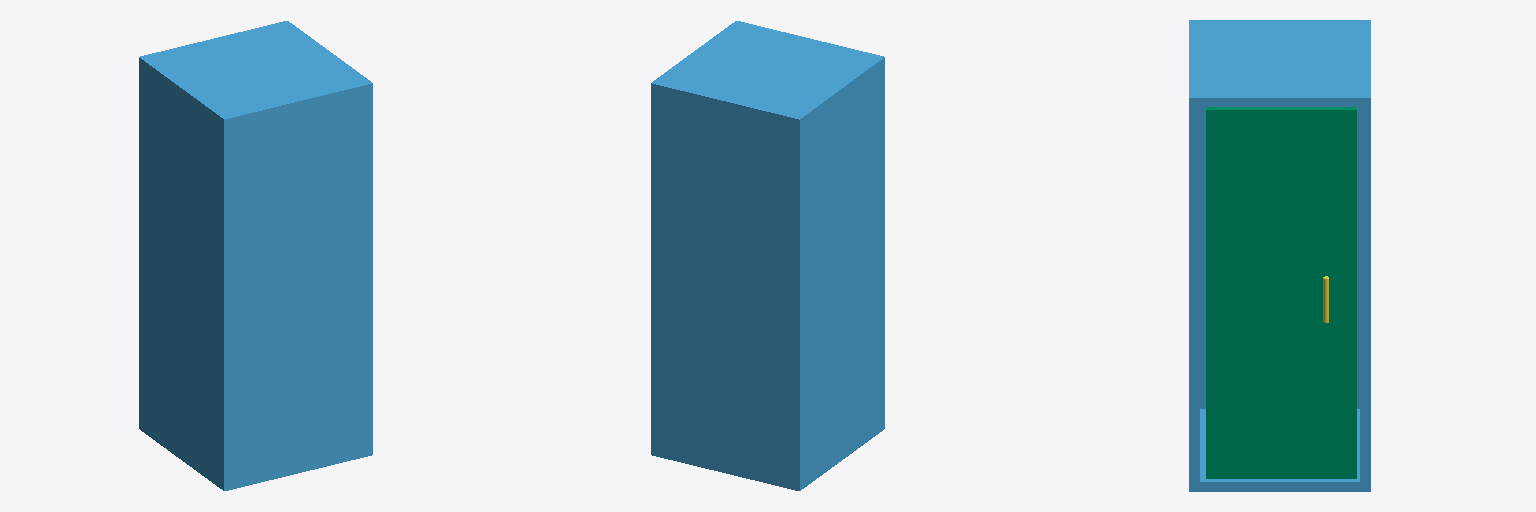
URDF robot description (my_cabinet):
<?xml version="1.0" ?>
<robot name="my_cabinet">
	<link name="world"/>
	<joint name="virtual_joint" type="fixed">
		<parent link="world"/>
		<child link="base_cabinet_link"/>
		<origin xyz="0.0 0.0 0.0" rpy="0.0 0.0 0.0"/>
	</joint>
	<link name="base_cabinet_link">
		<visual>
			<origin xyz="0.0 -0.0025 -0.3486223420729859" rpy="0.0 0.0 0.0"/>
			<geometry>
				<box size="0.3 0.2987899586336481 0.018"/>
			</geometry>
		</visual>
		<collision name="base_cabinet_link_collision_0">
			<origin xyz="0.0 -0.0025 -0.3486223420729859" rpy="0.0 0.0 0.0"/>
			<geometry>
				<box size="0.3 0.2987899586336481 0.018"/>
			</geometry>
		</collision>
		<visual>
			<origin xyz="0.0 0.13789497931682407 0.0" rpy="0.0 0.0 0.0"/>
			<geometry>
				<box size="0.3 0.018 0.7152446841459719"/>
			</geometry>
		</visual>
		<collision name="base_cabinet_link_collision_1">
			<origin xyz="0.0 0.13789497931682407 0.0" rpy="0.0 0.0 0.0"/>
			<geometry>
				<box size="0.3 0.018 0.7152446841459719"/>
			</geometry>
		</collision>
		<visual>
			<origin xyz="0.0 -0.14289497931682407 0.0" rpy="0.0 0.0 0.0"/>
			<geometry>
				<box size="0.3 0.018 0.7152446841459719"/>
			</geometry>
		</visual>
		<collision name="base_cabinet_link_collision_2">
			<origin xyz="0.0 -0.14289497931682407 0.0" rpy="0.0 0.0 0.0"/>
			<geometry>
				<box size="0.3 0.018 0.7152446841459719"/>
			</geometry>
		</collision>
		<visual>
			<origin xyz="0.0 -0.0025 0.3486223420729859" rpy="0.0 0.0 0.0"/>
			<geometry>
				<box size="0.3 0.2987899586336481 0.018"/>
			</geometry>
		</visual>
		<collision name="base_cabinet_link_collision_3">
			<origin xyz="0.0 -0.0025 0.3486223420729859" rpy="0.0 0.0 0.0"/>
			<geometry>
				<box size="0.3 0.2987899586336481 0.018"/>
			</geometry>
		</collision>
		<visual>
			<origin xyz="-0.141 -0.0025 0.0" rpy="0.0 0.0 0.0"/>
			<geometry>
				<box size="0.018 0.2987899586336481 0.7152446841459719"/>
			</geometry>
		</visual>
		<collision name="base_cabinet_link_collision_4">
			<origin xyz="-0.141 -0.0025 0.0" rpy="0.0 0.0 0.0"/>
			<geometry>
				<box size="0.018 0.2987899586336481 0.7152446841459719"/>
			</geometry>
		</collision>
		<inertial>
			<mass value="0.200000"/>
			<inertia ixx="0.010014" ixy="0.0" ixz="0.0" iyy="0.010026" iyz="0.0" izz="0.002988"/>
		</inertial>
	</link>
	<link name="door_link">
		<visual>
			<origin xyz="0.0 -0.12389497931682406 0.0"/>
			<geometry>
				<box size="0.018 0.2477899586336481 0.6692446841459718"/>
			</geometry>
		</visual>
		<collision name="door_link_collision">
			<origin xyz="0.0 -0.12389497931682406 0.0"/>
			<geometry>
				<box size="0.018 0.2477899586336481 0.6692446841459718"/>
			</geometry>
		</collision>
		<inertial>
			<mass value="0.200000"/>
			<inertia ixx="0.008488" ixy="0.0" ixz="0.0" iyy="0.007470" iyz="0.0" izz="0.001029"/>
		</inertial>
	</link>
	<joint name="door_joint" type="revolute">
		<origin xyz="0.141 -0.12389497931682406 0.0" rpy="0.000000 -0.000000 3.141593"/>
		<axis xyz="0 0 1"/>
		<parent link="base_cabinet_link"/>
		<child link="door_link"/>
		<limit effort="50" lower="-1.658062789394613" upper="0" velocity="10"/>
		<dynamics friction="3.5" damping="3.5"/>
	</joint>
	<link name="handle_link">
		<visual>
			<origin xyz="0.0 0.0 0.0" rpy="0.0 0.0 0.0"/>
			<geometry>
				<cylinder length="0.08" radius="0.005"/>
			</geometry>
		</visual>
		<collision name="handle_link_collision_0">
			<origin xyz="0.0 0.0 0.0" rpy="0.0 0.0 0.0"/>
			<geometry>
				<cylinder length="0.08" radius="0.005"/>
			</geometry>
		</collision>
		<visual>
			<origin xyz="-0.01 0.0 0.02" rpy="0.0 1.5707963267948966 0.0"/>
			<geometry>
				<cylinder length="0.02" radius="0.003"/>
			</geometry>
		</visual>
		<collision name="handle_link_collision_1">
			<origin xyz="-0.01 0.0 0.02" rpy="0.0 1.5707963267948966 0.0"/>
			<geometry>
				<cylinder length="0.01" radius="0.003"/>
			</geometry>
		</collision>
		<visual>
			<origin xyz="-0.01 0.0 -0.02" rpy="0.0 1.5707963267948966 0.0"/>
			<geometry>
				<cylinder length="0.02" radius="0.003"/>
			</geometry>
		</visual>
		<collision name="handle_link_collision_2">
			<origin xyz="-0.01 0.0 -0.02" rpy="0.0 1.5707963267948966 0.0"/>
			<geometry>
				<cylinder length="0.02" radius="0.003"/>
			</geometry>
		</collision>
		<inertial>
			<mass value="0.050000"/>
			<inertia ixx="0.000027" ixy="0.0" ixz="0.0" iyy="0.000029" iyz="0.0" izz="0.000003"/>
		</inertial>
	</link>
	<joint name="handle_joint" type="fixed">
		<origin xyz="-0.028999999999999998 -0.19778995863364812 0.0" rpy="0.000000 -0.000000 3.141593"/>
		<parent link="door_link"/>
		<child link="handle_link"/>
	</joint>
	<gazebo reference="base_cabinet_link">
		<sensor name="main_sensor" type="contact">
			<selfCollide>true</selfCollide>
			<alwaysOn>true</alwaysOn>
			<updateRate>5.0</updateRate>
			<material>Gazebo/Red</material>
			<contact>
				<collision>base_cabinet_link_collision_0_collision</collision>
				<collision>base_cabinet_link_collision_1_collision</collision>
				<collision>base_cabinet_link_collision_2_collision</collision>
				<collision>base_cabinet_link_collision_3_collision</collision>
				<collision>base_cabinet_link_collision_4_collision</collision>
			</contact>
			<plugin name="gazebo_ros_bumper_controller" filename="libgazebo_ros_bumper.so">
				<bumperTopicName>/contact</bumperTopicName>
				<frameName>world</frameName>
			</plugin>
		</sensor>
	</gazebo>
	<gazebo reference="door_link">
		<sensor name="main_sensor" type="contact">
			<selfCollide>true</selfCollide>
			<alwaysOn>true</alwaysOn>
			<updateRate>5.0</updateRate>
			<material>Gazebo/Red</material>
			<contact>
				<collision>door_link_collision_collision</collision>
			</contact>
			<plugin name="gazebo_ros_bumper_controller" filename="libgazebo_ros_bumper.so">
				<bumperTopicName>/contact_door</bumperTopicName>
				<frameName>contact_door</frameName>
			</plugin>
		</sensor>
	</gazebo>
	<gazebo reference="door_link">
		<mu>3.0</mu>
		<mu2>3.0</mu2>
		<kp>10000000</kp>
		<kd>100</kd>
	</gazebo>
</robot>

--- Render facts (derived) ---
3 views of the same robot in one strip: view 1: azimuth 30°, elevation 25°; view 2: azimuth 150°, elevation 25°; view 3: azimuth 270°, elevation 25° (orthographic).
Model my_cabinet with 4 links and 3 joints (1 revolute, 2 fixed), rooted at world, posed every joint at zero.
Visible links, largest first — view 1: base_cabinet_link; view 2: base_cabinet_link; view 3: door_link, base_cabinet_link.
Boxes of the visible links, bbox=[...] form: base_cabinet_link: bbox=[139, 21, 372, 490]; base_cabinet_link: bbox=[651, 21, 884, 490]; door_link: bbox=[1206, 107, 1356, 478]; base_cabinet_link: bbox=[1189, 20, 1370, 491].
Bounding box of the posed robot: 0.325 × 0.2988 × 0.7152 m (x, y, z).
Geometry: primitives only (box / cylinder / sphere), no mesh files.
